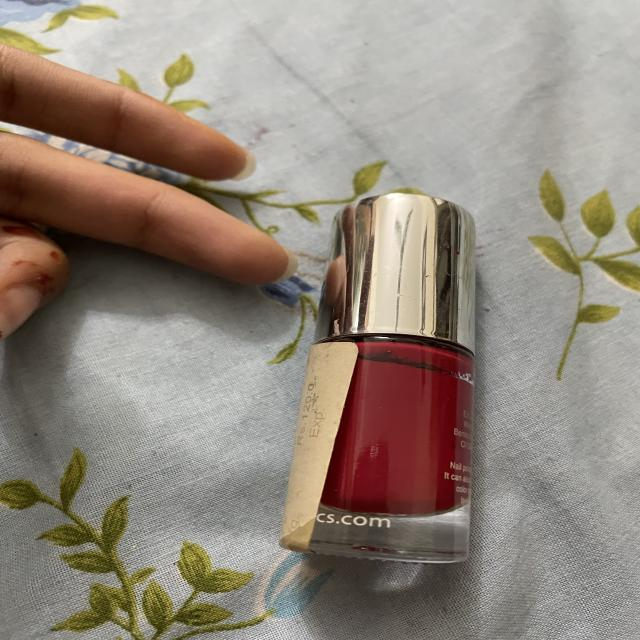nail polish: (262, 177, 504, 578)
